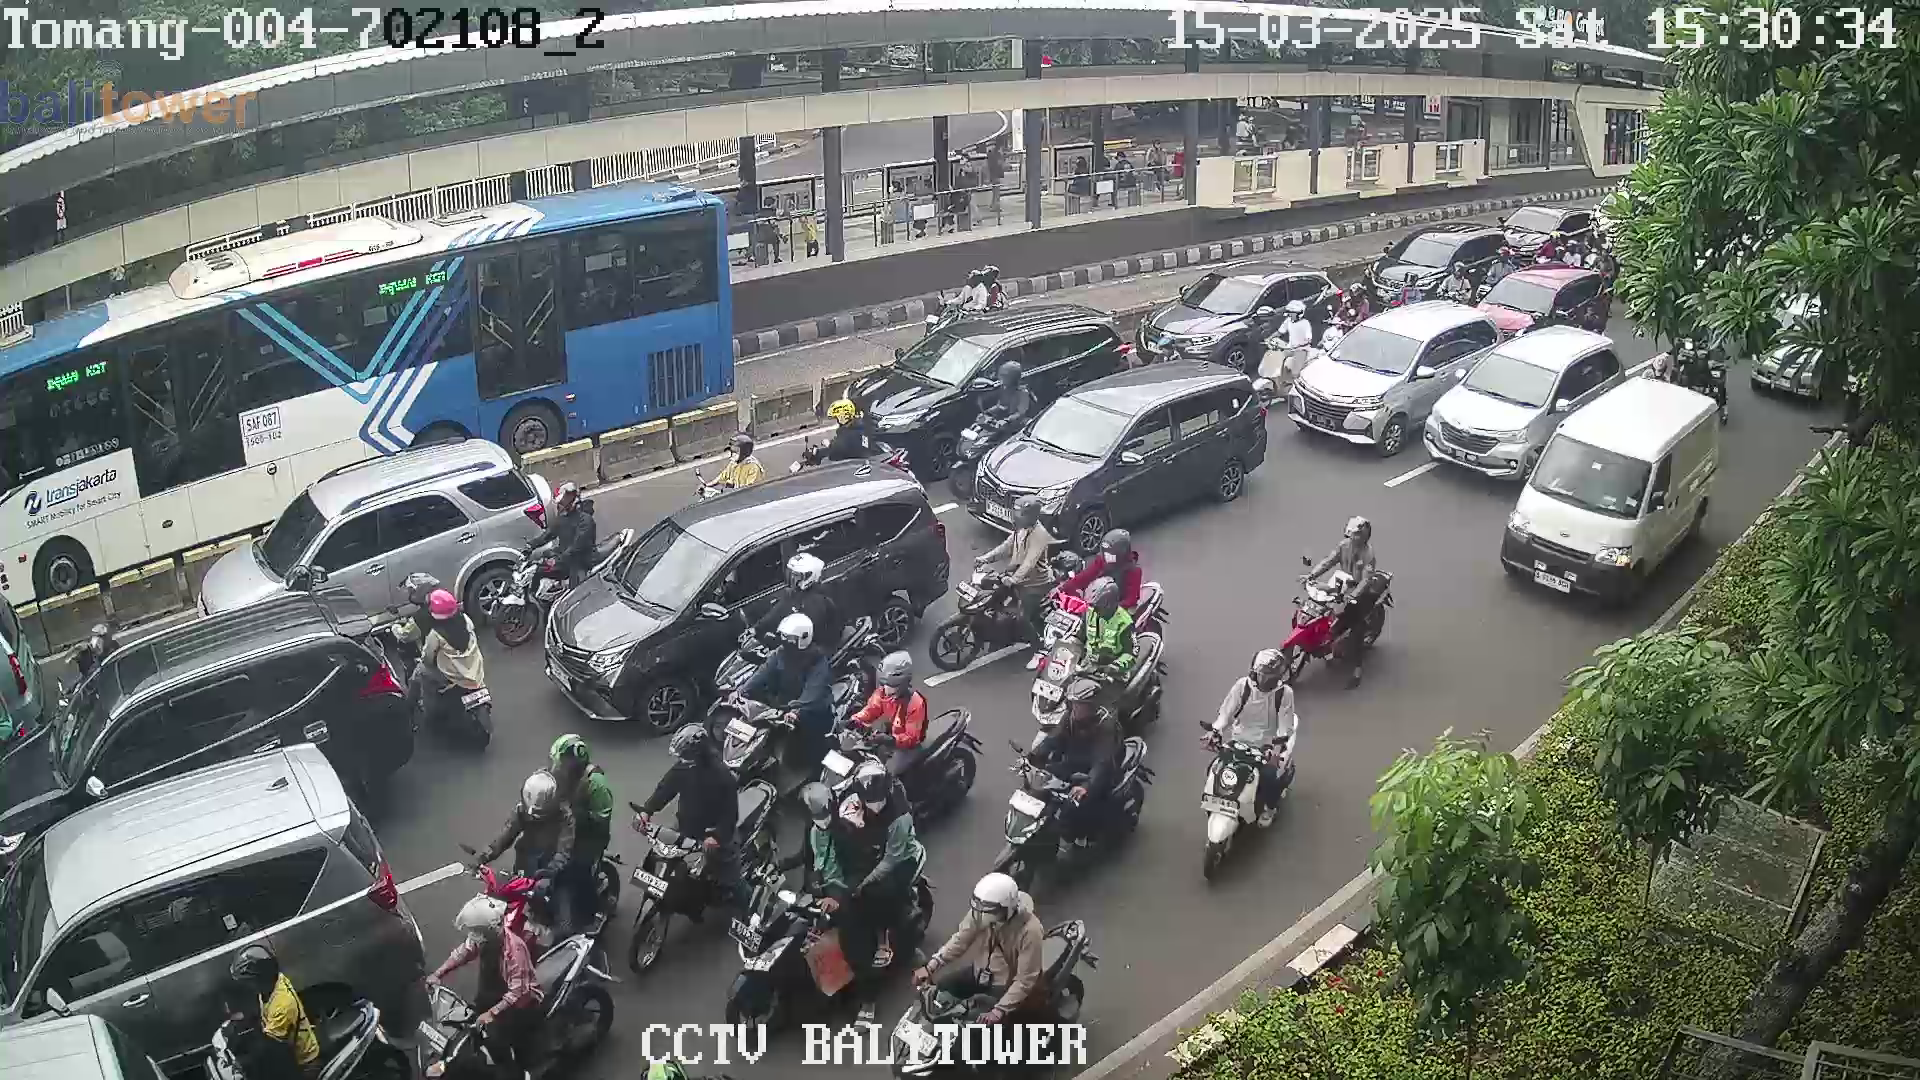full-face helmet: (549, 482, 590, 518), (996, 359, 1025, 394)
half-face helmet: (447, 888, 512, 967), (778, 545, 837, 606), (229, 951, 288, 1008), (545, 727, 596, 790), (972, 882, 1025, 937), (514, 771, 565, 829), (849, 771, 902, 824), (666, 727, 717, 776), (778, 606, 815, 665), (1065, 676, 1108, 726), (1090, 524, 1137, 569), (1084, 576, 1131, 620), (1253, 649, 1298, 694), (796, 786, 837, 835), (876, 651, 914, 702), (396, 569, 439, 612), (1339, 514, 1378, 553), (1008, 498, 1043, 535), (825, 394, 861, 431), (429, 586, 457, 629), (725, 429, 757, 459), (90, 618, 119, 651), (1282, 298, 1310, 326), (66, 649, 96, 673)
